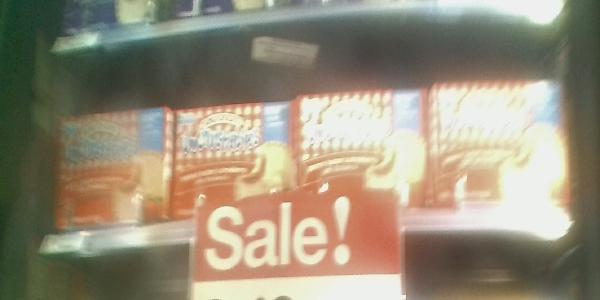icecream: (427, 75, 567, 235), (297, 93, 426, 238), (174, 102, 296, 247), (47, 104, 167, 247)
